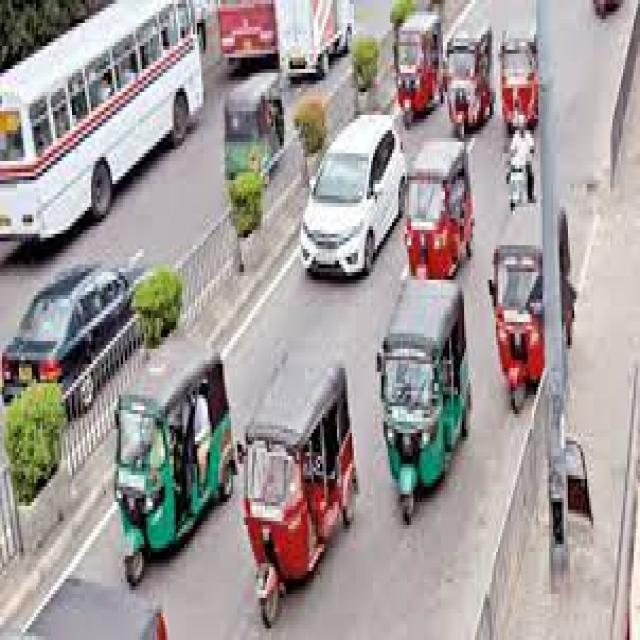bus: (0, 0, 201, 238), (220, 0, 275, 57)
car: (2, 264, 136, 414), (301, 115, 405, 276)
motorcycle: (511, 169, 526, 211)
person: (511, 126, 532, 169)
three wheeler: (114, 337, 233, 583), (244, 360, 354, 625), (377, 280, 468, 521), (405, 142, 470, 276), (490, 249, 543, 410), (227, 73, 282, 176), (447, 27, 492, 138), (398, 11, 441, 126), (500, 38, 536, 130)
van: (280, 0, 352, 80)
